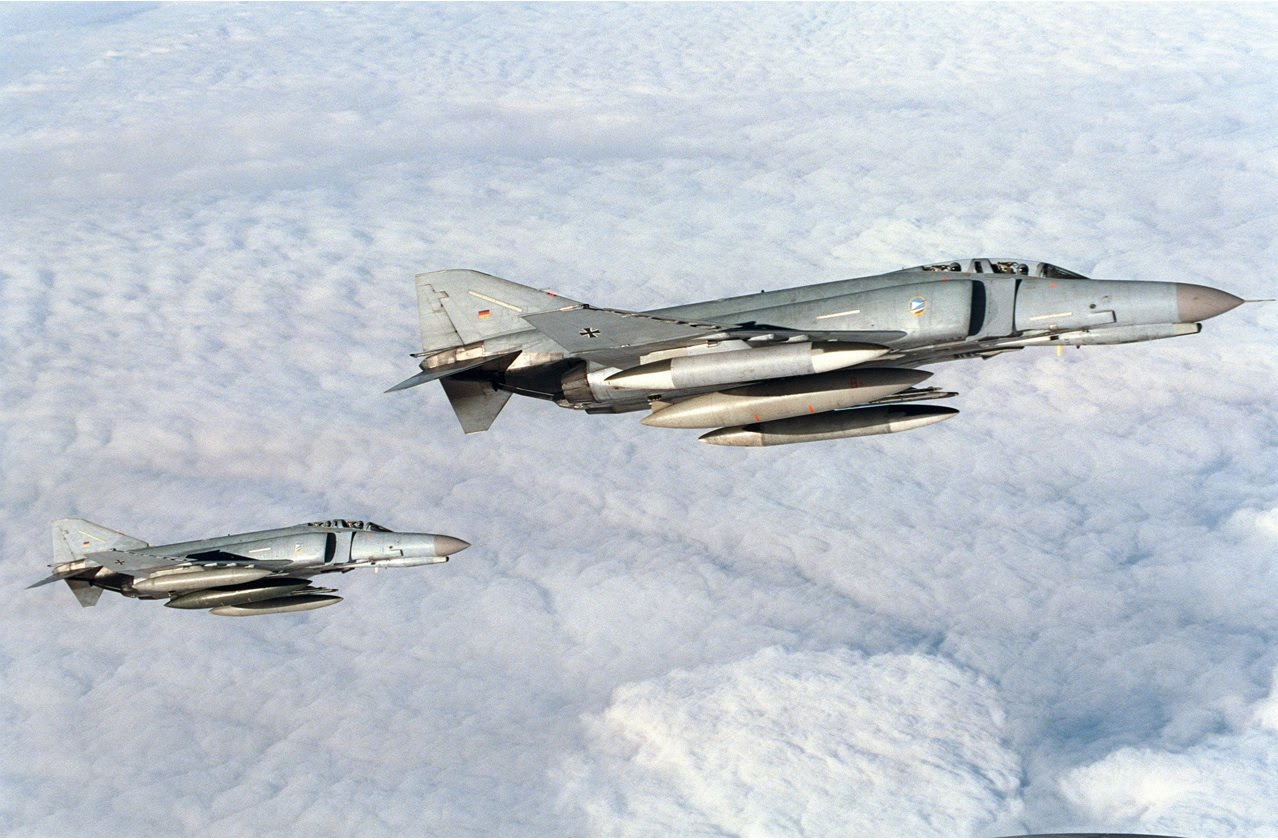F4: (382, 257, 1276, 448), (23, 517, 487, 617)
